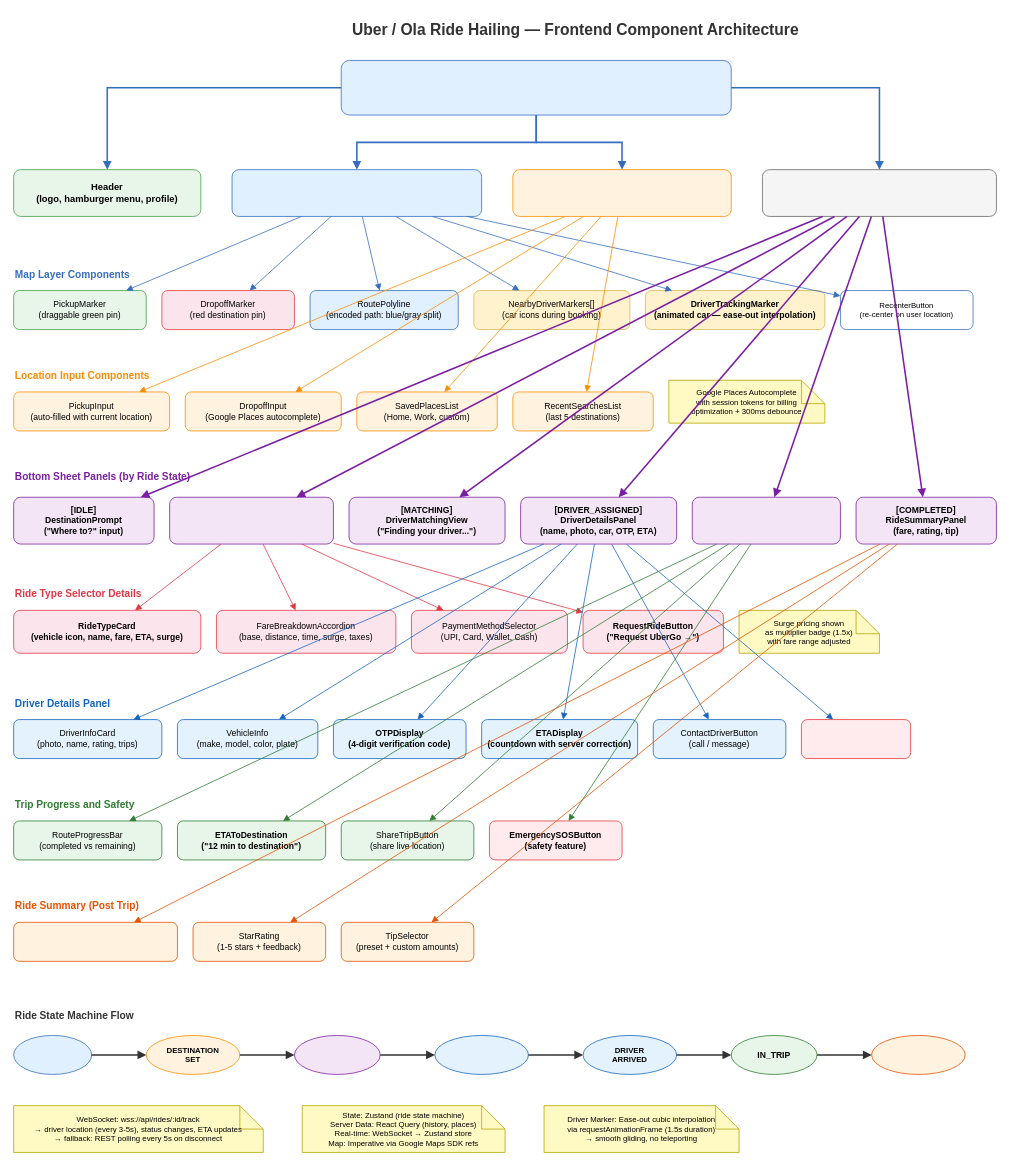
This 1010x1166 diagram has some shape labels left out. The shapes that lost their labels are listed below. From the top down, each one's centre as x and y in pixels, then its label:
(x=535, y=87): App Shell — SPA with CSR for booking flow, SSG for landing/marketing pages
(x=356, y=192): MapView (Full Screen) (Google Maps / Mapbox GL JS)
(x=621, y=192): LocationInputPanel (pickup + dropoff inputs, saved places)
(x=879, y=192): BottomSheet (Dynamic Panels) (content changes based on ride state)
(x=251, y=520): [DESTINATION_SET] RideTypeSelector (Mini, Sedan, SUV, Pool + fares)
(x=765, y=520): [IN_TRIP] TripProgressPanel (ETA, route progress, SOS)
(x=856, y=739): CancelRideButton
(x=95, y=941): FareSummary (base, distance, time, surge, total)
(x=52, y=1054): IDLE
(x=337, y=1054): MATCHING
(x=481, y=1054): DRIVER ASSIGNED
(x=918, y=1054): COMPLETED
